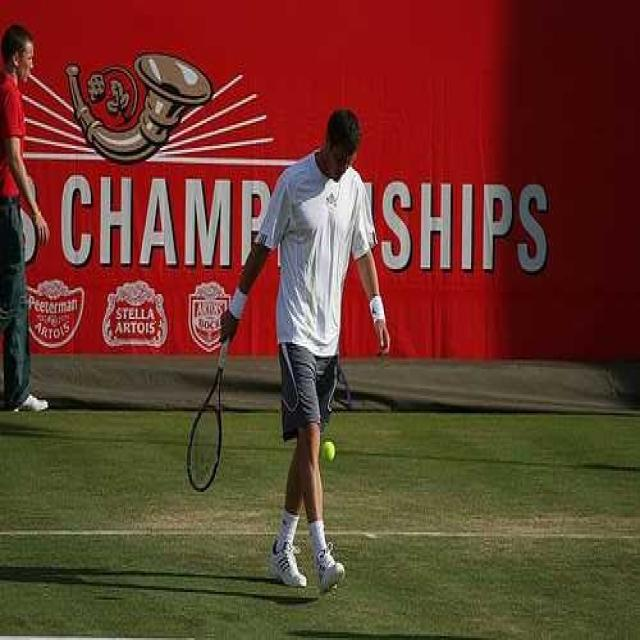Tennis_Ball: (324, 440, 336, 463)
